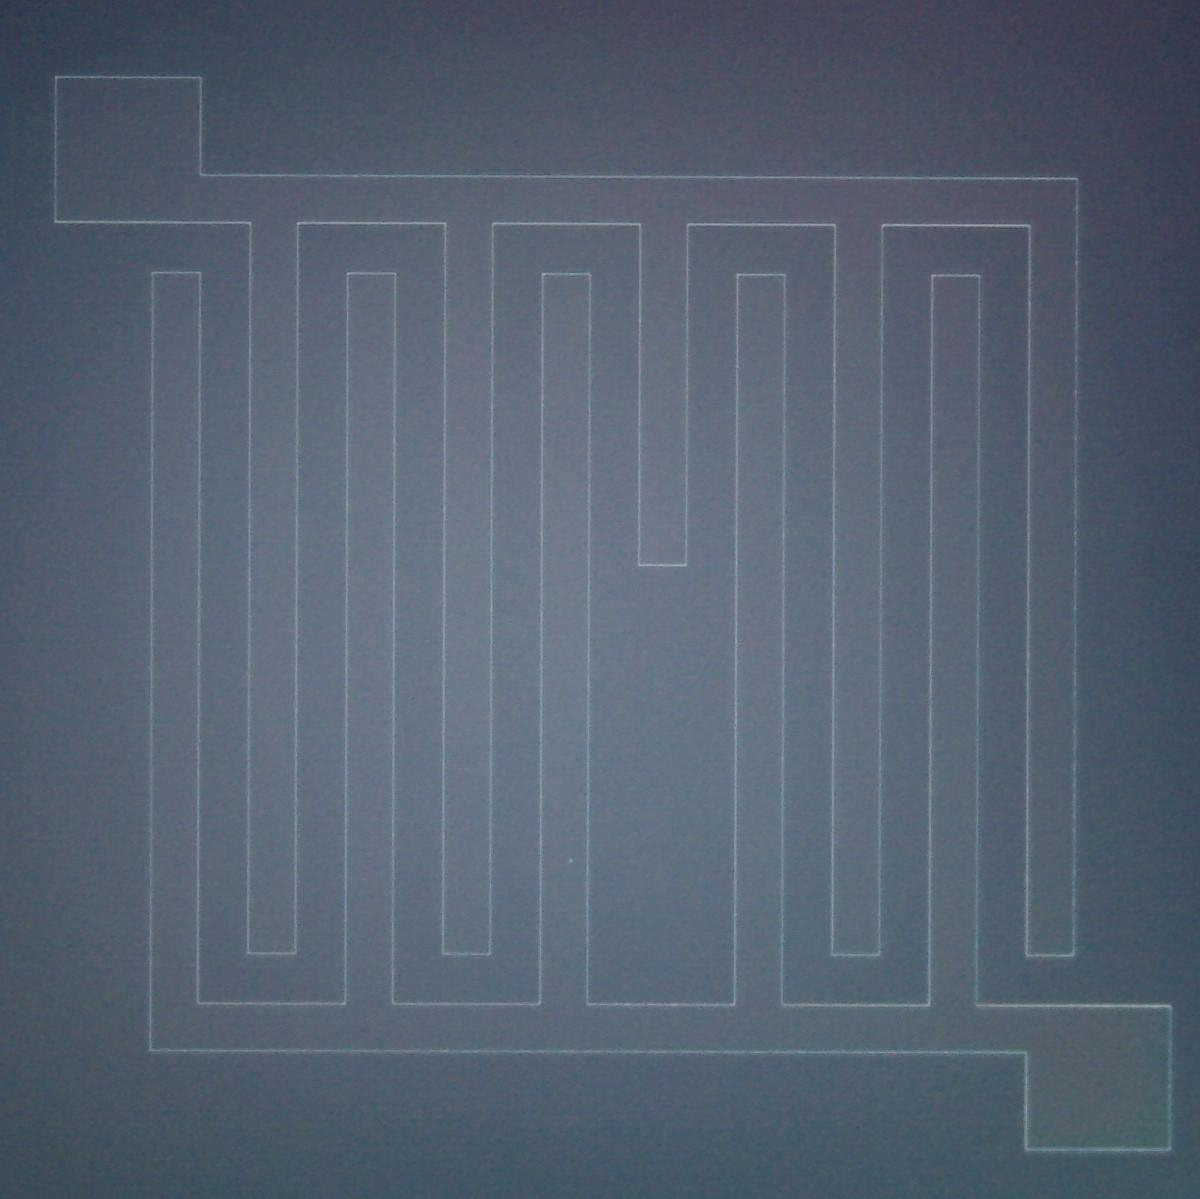short: (571, 158, 752, 1027)
